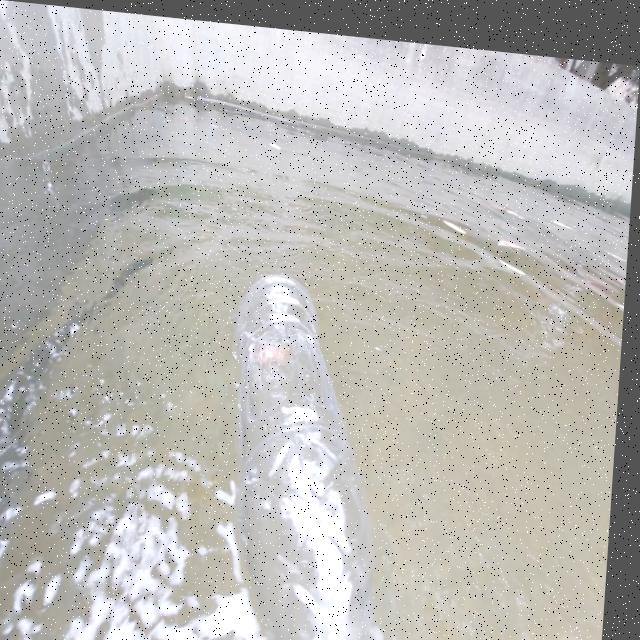waterbottle: (228, 246, 436, 640)
